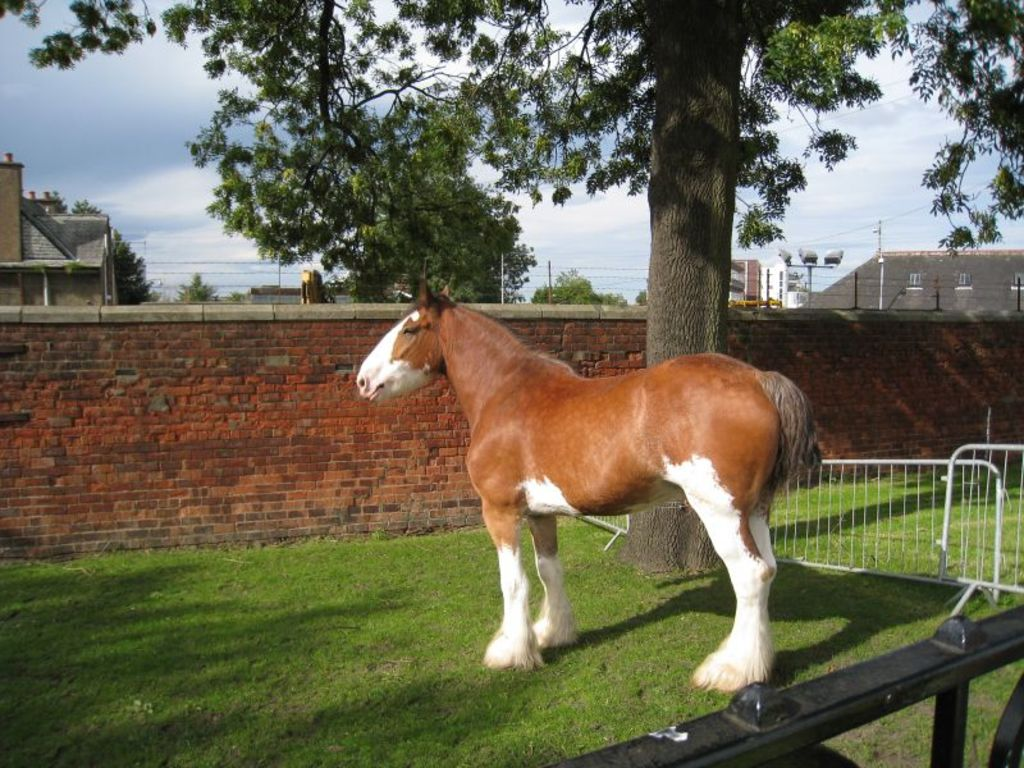horse: (355, 273, 819, 693)
